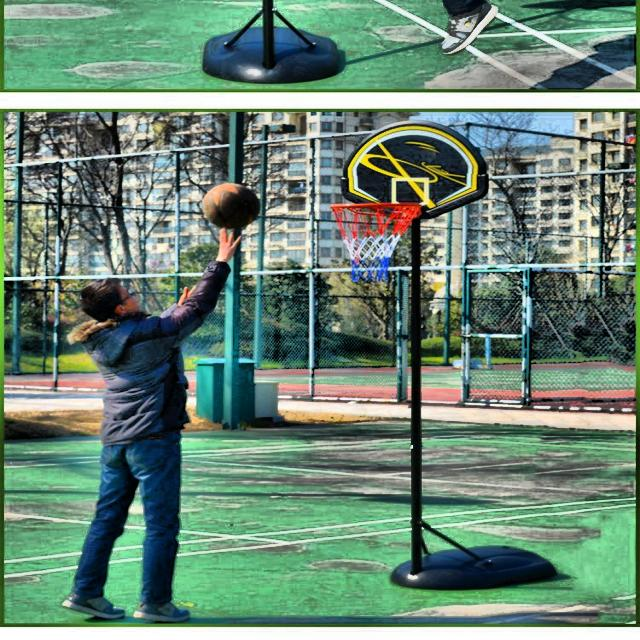board: (204, 182, 261, 229)
rim: (333, 202, 425, 284)
